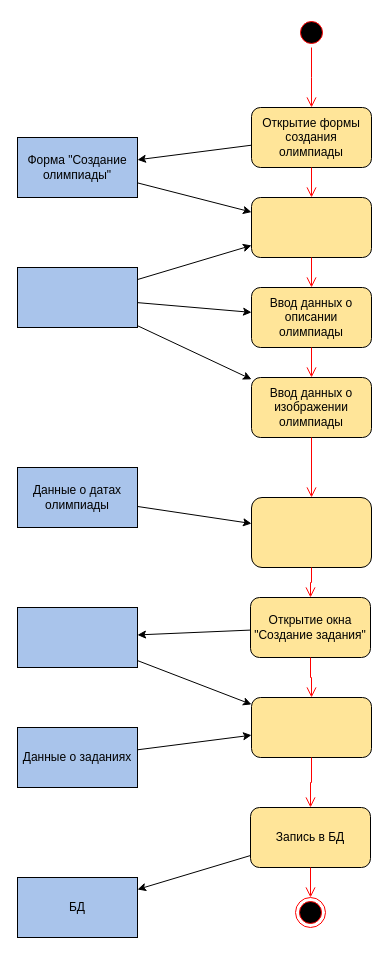
Image size: 389x955. Some labels were removed from this diagram. The box of each missing label's shape, as (x1, y1, x2, y2) in pixels:
Ввод данных о датах регистрации и датах проведения олимпиады: (250, 496, 372, 568)
Ввод данных о заданиях (тип, варианты ответов): (250, 696, 372, 758)
Ввод данных о названии олимпиады: (250, 196, 372, 258)
Общие данные об олимпиаде: (16, 266, 138, 328)
Окно "Создание задания": (16, 606, 138, 668)
